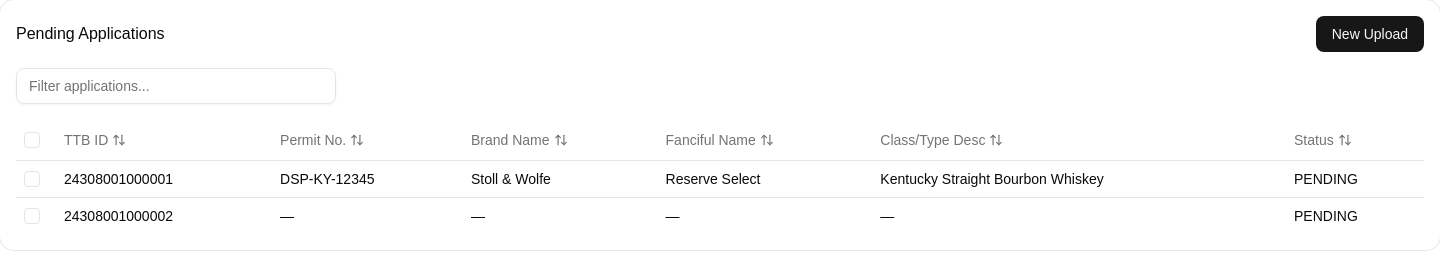
DashboardPage › supports batch checkbox selection (12.3)
Expected: the text "24308001000001" is shown, [56,160,272,197]
What coordinates should you click on to do the following:
click the checkbox named "Select application 1"
I would click on:
 (32, 178)
Its box is [24,170,40,186].
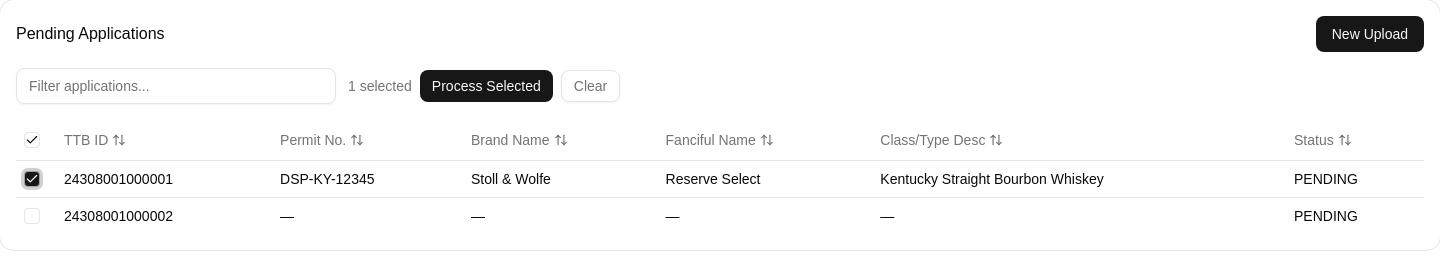
Expected: the text "1 selected" is shown, [348,76,412,96]
What coordinates should you click on to do the following:
click the checkbox named "Select application 2"
I would click on:
 (32, 216)
Its box is [24,208,40,224].
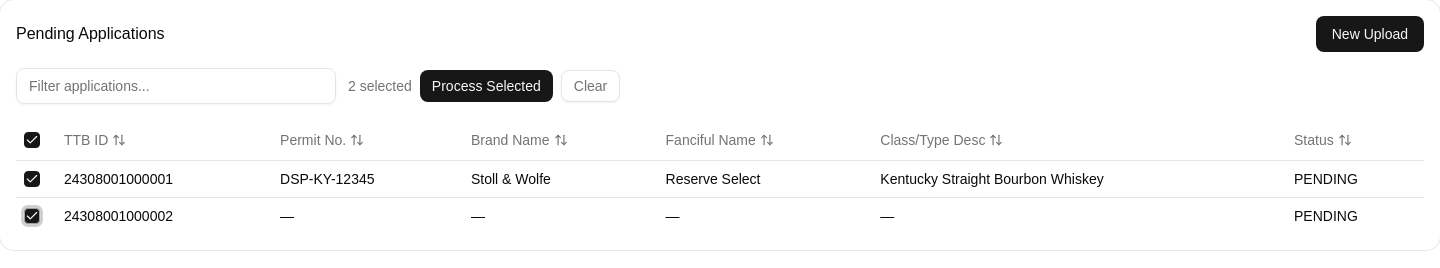
Expected: the text "2 selected" is shown, [348,76,412,96]
What coordinates should you click on to do the following:
click the button "Clear"
I would click on:
 (591, 86)
Its box is [561,70,620,102].
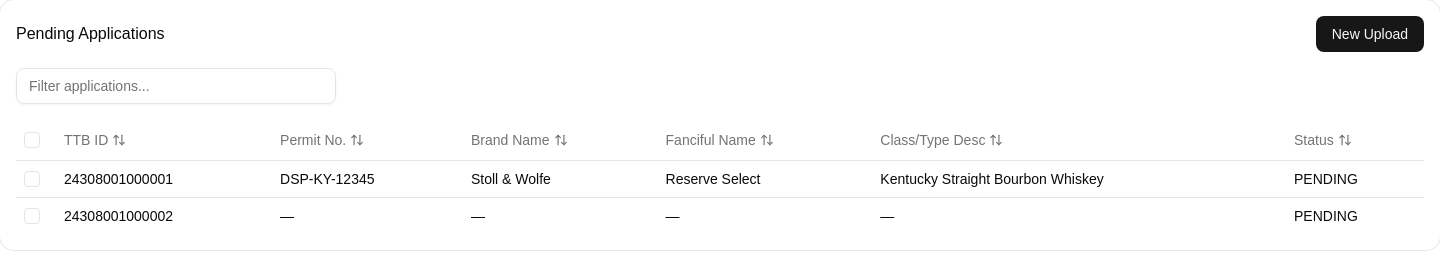
Expected: the text "selected" is gone
